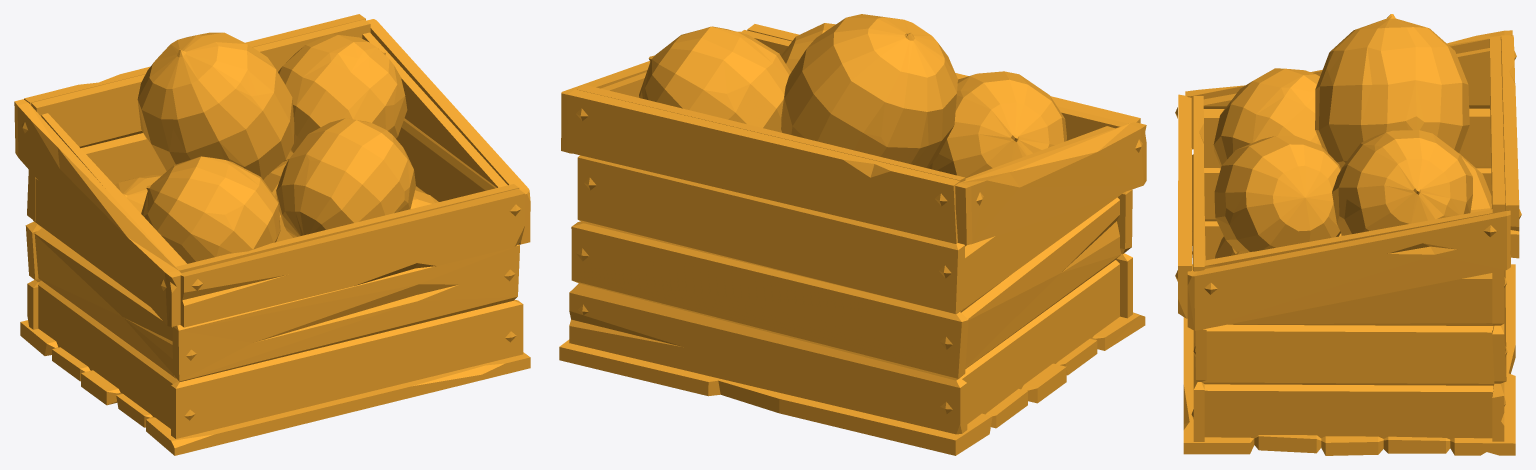
Rendered from SM_Crate_Slanted_Melons_Fantasy.fbx.
3 renders of one model, left to right at view 1: azimuth 30°, elevation 25°; view 2: azimuth 150°, elevation 25°; view 3: azimuth 270°, elevation 25°, orthographic. The views are drawn at different scales.
Visible parts, largest first — view 1: crate-slanted-melons-fantasy; view 2: crate-slanted-melons-fantasy; view 3: crate-slanted-melons-fantasy.
Part boxes in pixels (<box>): crate-slanted-melons-fantasy: <box>14,14,530,455</box>; crate-slanted-melons-fantasy: <box>559,14,1146,455</box>; crate-slanted-melons-fantasy: <box>1175,14,1521,455</box>.
Size of the model in its own units: 1.06 by 0.8586 by 0.8418.
